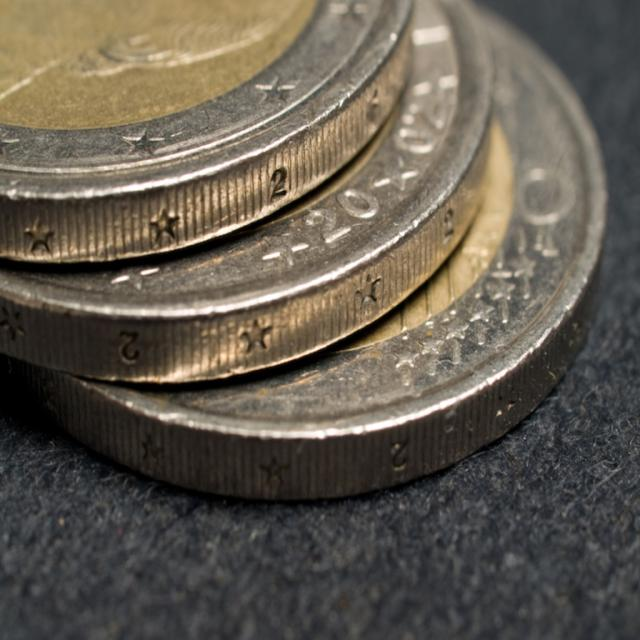Coin: (5, 16, 614, 502), (0, 0, 502, 382)
